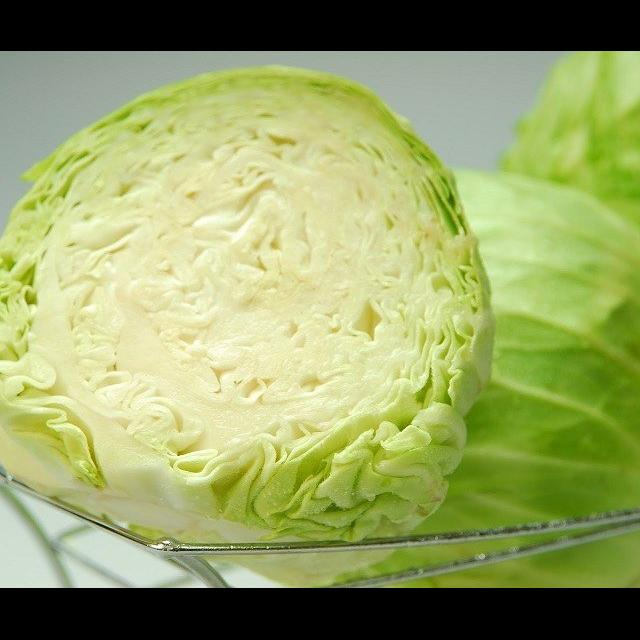cabbage: (0, 72, 512, 550)
